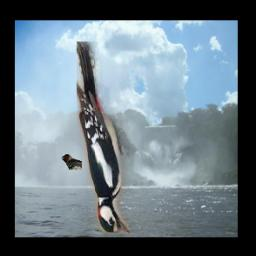Swallow: (61, 154, 83, 170)
Woodpecker: (77, 42, 131, 235)
